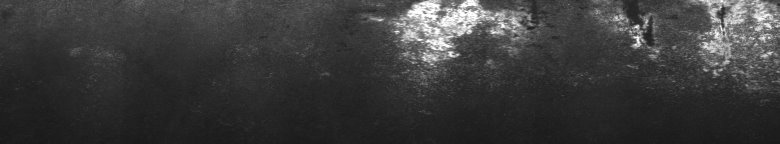kb: (321, 4, 776, 96)
